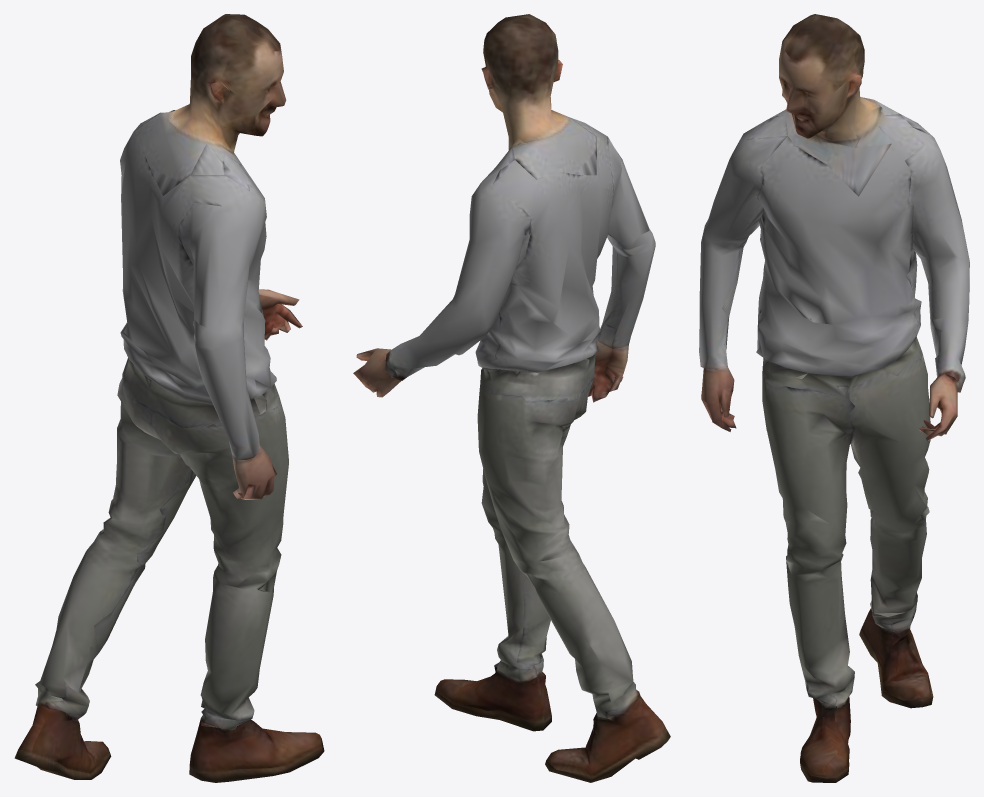
File: man.glb
The picture shows the model from 3 angles, left to right: view 1: azimuth 30°, elevation 25°; view 2: azimuth 150°, elevation 25°; view 3: azimuth 270°, elevation 25°; orthographic projection. The views are drawn at different scales.
Parts seen in each view (by area): view 1: Desirefxme_GTP_CMan_Spg_Mark_20_Wk_Sd_Lsn_Bgr214; view 2: Desirefxme_GTP_CMan_Spg_Mark_20_Wk_Sd_Lsn_Bgr214; view 3: Desirefxme_GTP_CMan_Spg_Mark_20_Wk_Sd_Lsn_Bgr214.
Boxes of the visible parts, x1,y1,x2,y2 form: Desirefxme_GTP_CMan_Spg_Mark_20_Wk_Sd_Lsn_Bgr214: (14,14,324,782); Desirefxme_GTP_CMan_Spg_Mark_20_Wk_Sd_Lsn_Bgr214: (353,14,670,782); Desirefxme_GTP_CMan_Spg_Mark_20_Wk_Sd_Lsn_Bgr214: (699,14,969,782).
Bounding box in the file's own units: 0.7568 × 1.77 × 0.5914.
Materials: 1 (1 with a texture image).
